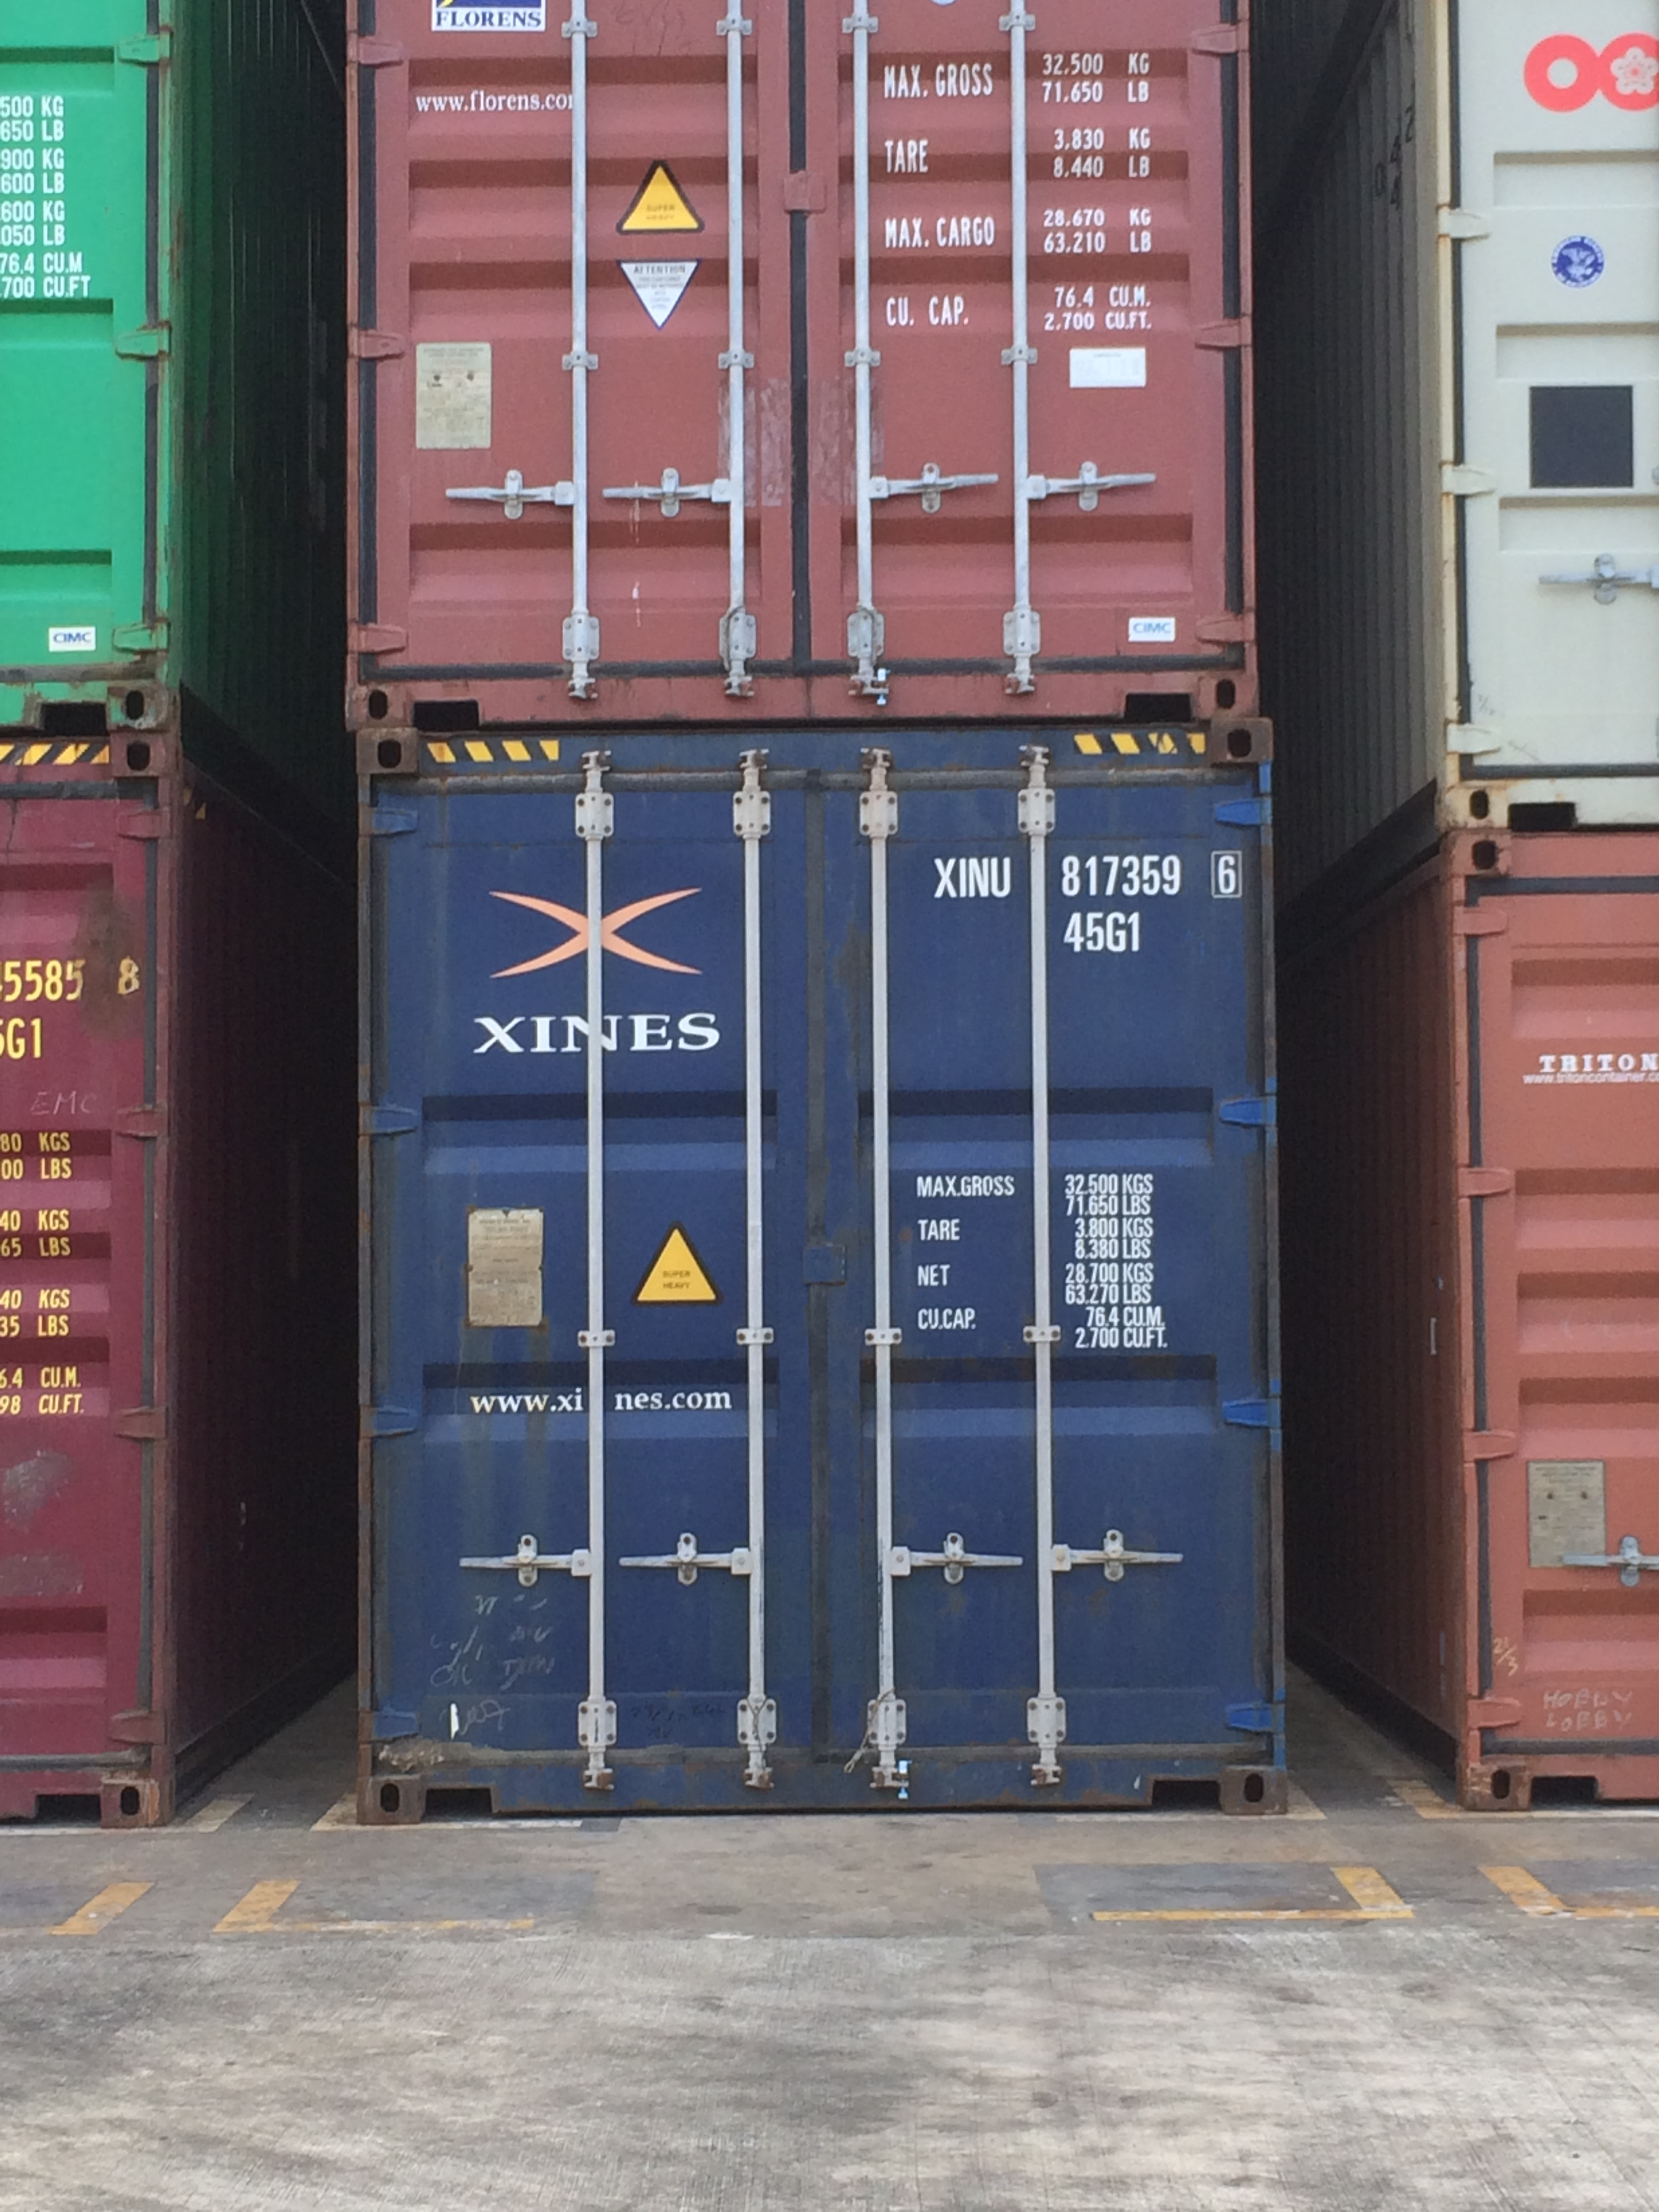container_door: (357, 719, 1290, 1815), (350, 0, 1258, 718)
